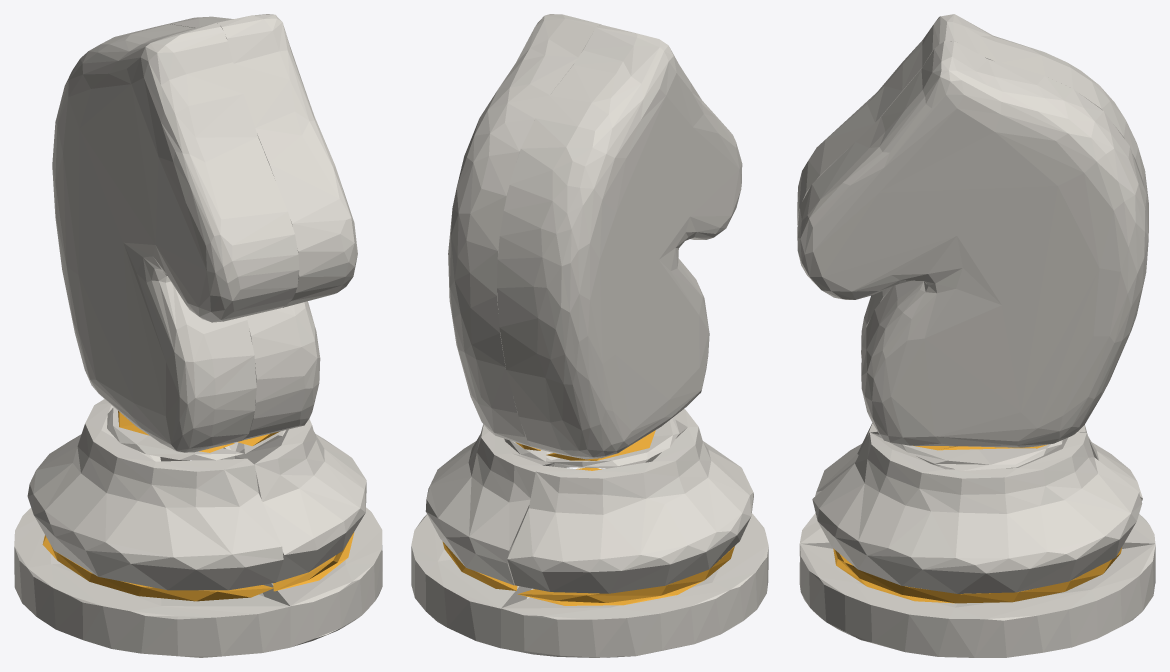
The model's file is knight.glb.
The picture shows the model from 3 angles, left to right: view 1: azimuth 30°, elevation 25°; view 2: azimuth 150°, elevation 25°; view 3: azimuth 270°, elevation 25°; orthographic projection. The views are drawn at different scales.
Visible parts, largest first — view 1: body, accent; view 2: body, accent; view 3: body, accent.
Boxes of the visible parts, x1=… form: body: x1=14, y1=14, x2=382, y2=657; accent: x1=42, y1=411, x2=354, y2=601; body: x1=411, y1=14, x2=768, y2=657; accent: x1=442, y1=430, x2=734, y2=605; body: x1=797, y1=14, x2=1155, y2=657; accent: x1=833, y1=444, x2=1121, y2=603.
Size of the model in its own units: 0.2983 by 0.5029 by 0.2993.
